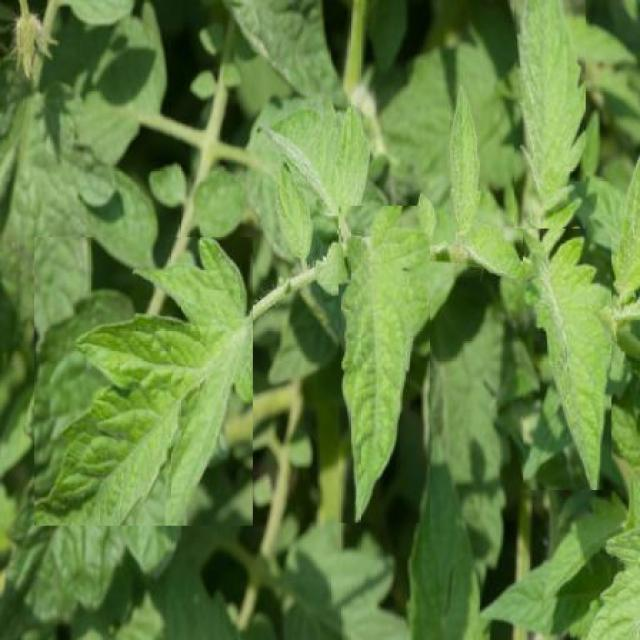Healthy: (34, 238, 253, 526), (339, 206, 431, 524), (523, 216, 611, 491), (515, 0, 585, 229)
